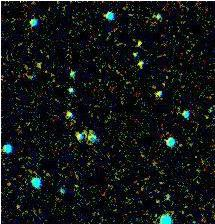star: (124, 28, 154, 58)
